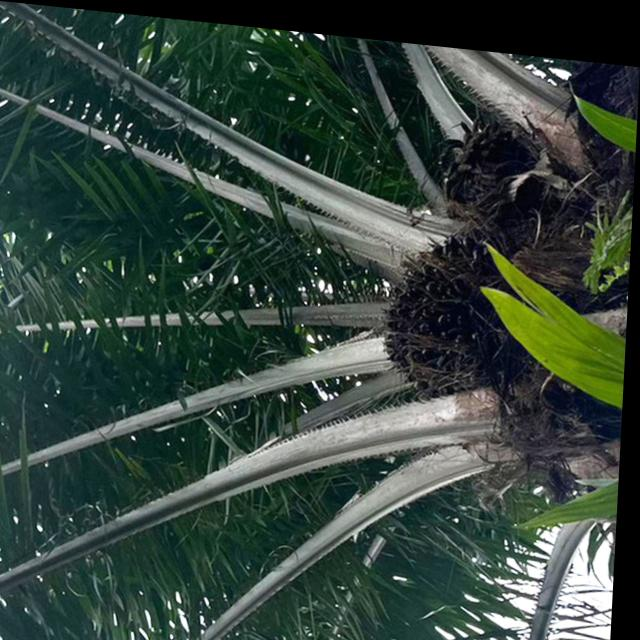almost: (353, 199, 523, 403)
